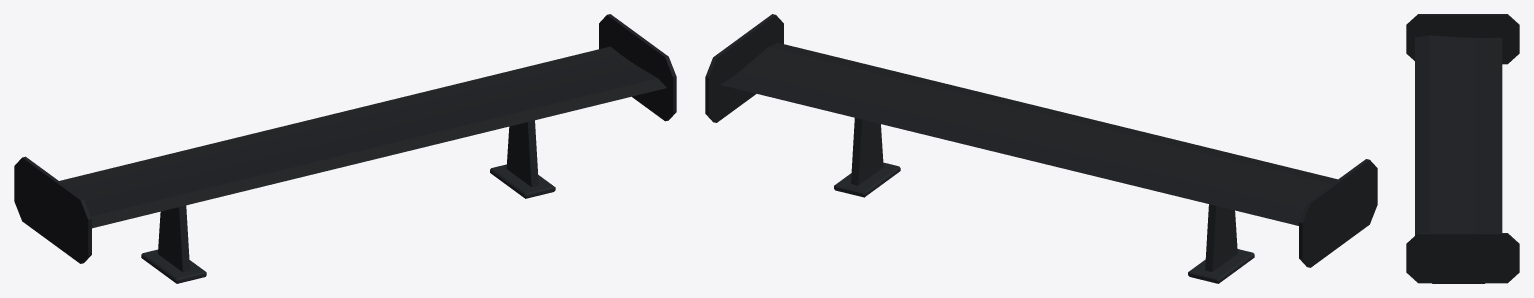
File: ridgeback_4x4.glb
3 renders of one model, left to right at view 1: azimuth 30°, elevation 25°; view 2: azimuth 150°, elevation 25°; view 3: azimuth 270°, elevation 25°, orthographic. The views are drawn at different scales.
Visible parts, largest first — view 1: wing_element, model; view 2: wing_element, model; view 3: wing_element.
Boxes of the visible parts, x1,y1,x2,y2 form: wing_element: (14,14,676,263); model: (141,120,555,283); wing_element: (705,14,1377,267); model: (834,118,1254,283); wing_element: (1406,14,1519,283).
Bounding box in the file's own units: 1.32 × 0.2484 × 0.286.
Materials: 2 (1 with a texture image).
